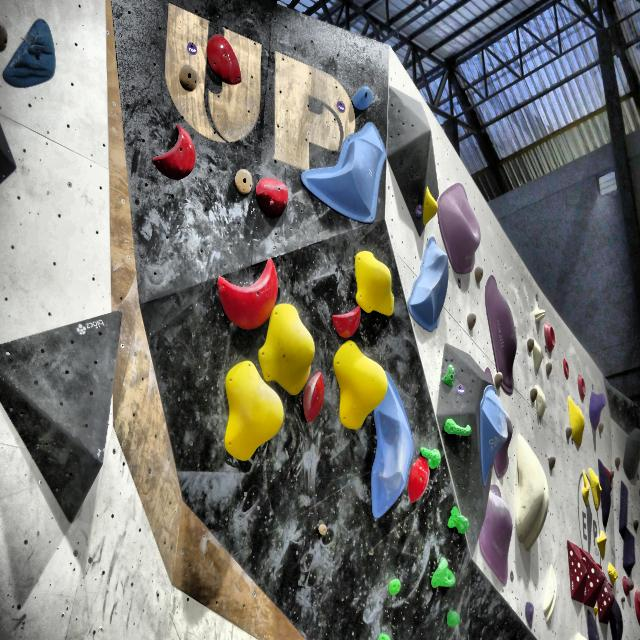Hold: (302, 120, 390, 238), (254, 283, 321, 390), (367, 367, 411, 520), (215, 364, 277, 464), (4, 10, 62, 111), (208, 249, 280, 327), (472, 480, 518, 587), (330, 344, 379, 435), (514, 435, 552, 552), (483, 275, 521, 389), (410, 242, 453, 338), (440, 181, 483, 274), (346, 245, 400, 317), (146, 116, 197, 182), (479, 386, 504, 488), (198, 28, 242, 83), (254, 168, 288, 218), (330, 308, 372, 343), (300, 371, 330, 418), (416, 181, 441, 231), (542, 562, 560, 629), (597, 456, 614, 525), (348, 73, 374, 118), (428, 360, 459, 394), (588, 384, 610, 431), (564, 397, 585, 446), (430, 556, 460, 590), (408, 457, 432, 499), (442, 416, 475, 444), (448, 504, 474, 537), (585, 464, 601, 509), (534, 381, 550, 424), (619, 527, 636, 567), (618, 481, 630, 535), (530, 338, 546, 374), (542, 322, 560, 353), (419, 444, 443, 464), (374, 623, 396, 640), (388, 573, 404, 595), (444, 608, 460, 630), (606, 560, 618, 584), (576, 373, 586, 401), (595, 528, 605, 556), (524, 599, 534, 626), (562, 356, 573, 380), (624, 574, 635, 597), (582, 472, 589, 506), (532, 308, 546, 324), (594, 605, 598, 615)
